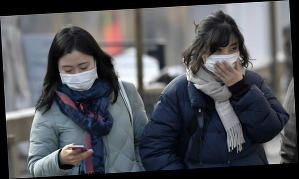with_mask: (59, 61, 98, 93), (205, 42, 241, 76)
